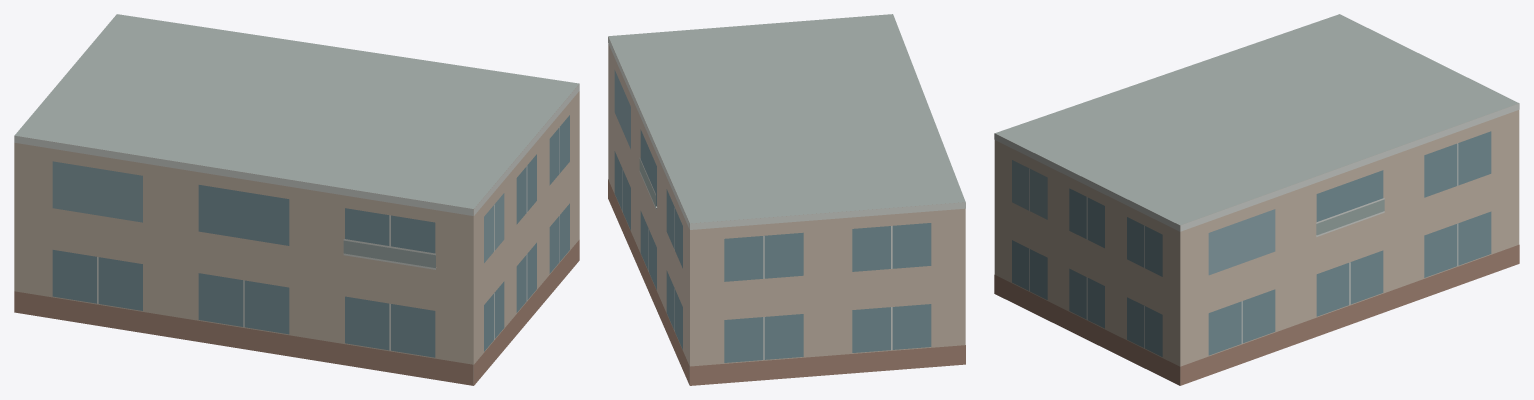
Rendered from survey-upis-32915602.glb.
The picture shows the model from 3 angles, left to right: view 1: azimuth 30°, elevation 25°; view 2: azimuth 150°, elevation 25°; view 3: azimuth 270°, elevation 25°; orthographic projection. The views are drawn at different scales.
Visible parts, largest first — view 1: survey-upis-32915602.tmp; view 2: survey-upis-32915602.tmp; view 3: survey-upis-32915602.tmp.
Boxes of the visible parts, x1,y1,x2,y2 form: survey-upis-32915602.tmp: (14, 14, 579, 385); survey-upis-32915602.tmp: (608, 14, 965, 385); survey-upis-32915602.tmp: (994, 14, 1519, 385).
Bounding box in the file's own units: 17.25 × 6.1 × 18.09.
